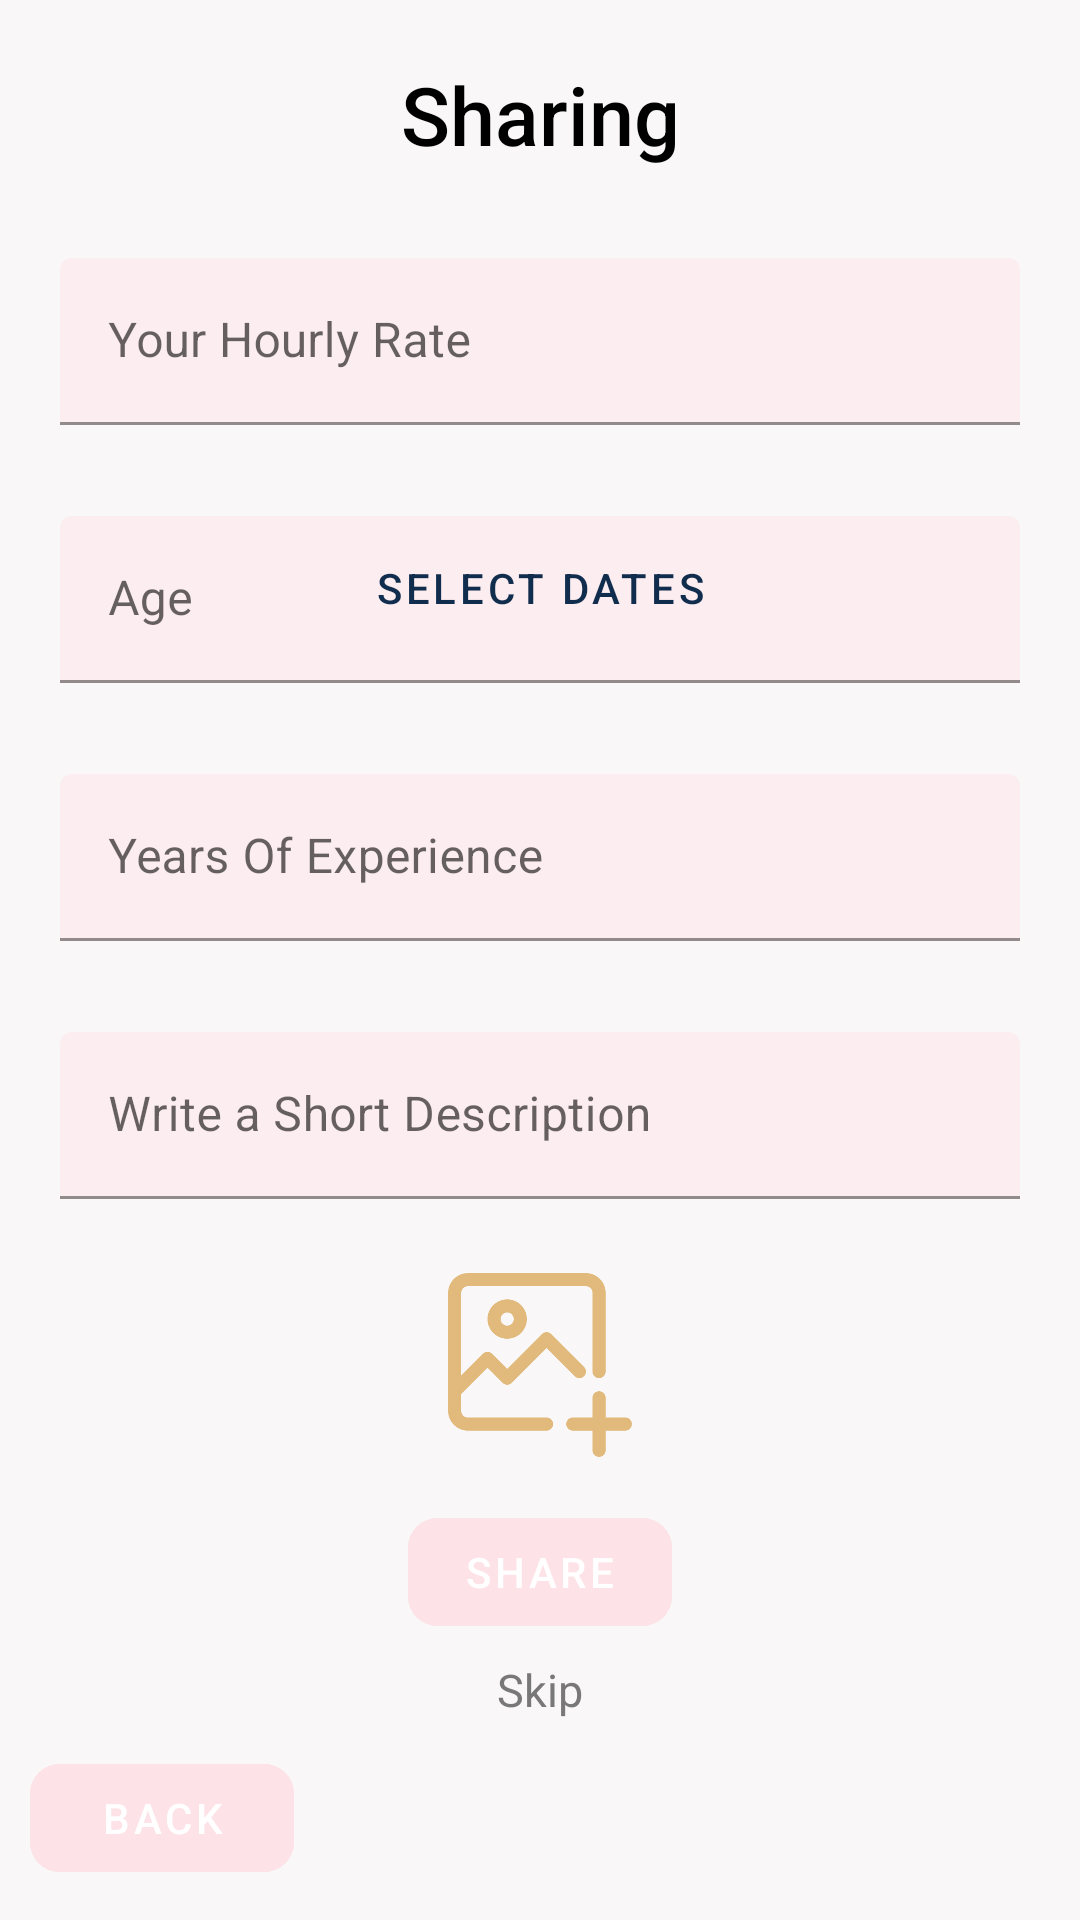

Icons on this 1080px×1920px Android screen, each with its box as (x1, y1, x2, y2):
addimage: (448, 1273, 632, 1457)
